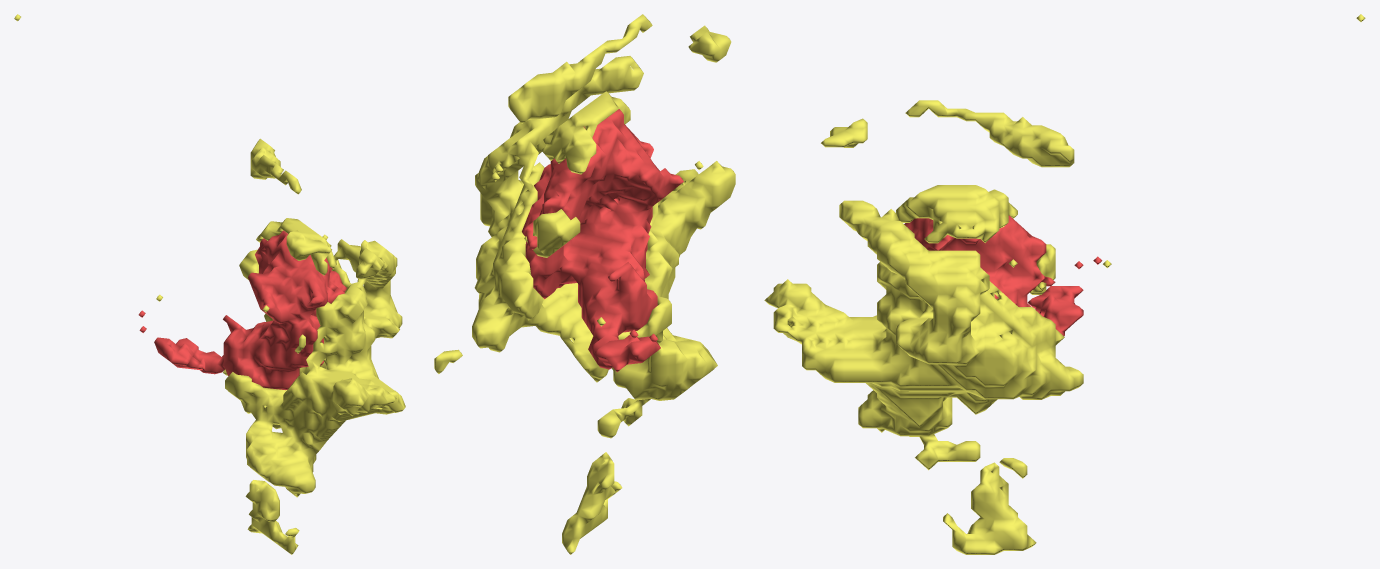
The model's file is tumor_mesh.glb.
3 views of the same model, side by side, from view 1: azimuth 30°, elevation 25°; view 2: azimuth 150°, elevation 25°; view 3: azimuth 270°, elevation 25° (orthographic). The views are drawn at different scales.
Visible parts, largest first — view 1: edema, necrotic; view 2: edema, necrotic; view 3: edema, necrotic.
Boxes of the visible parts, bbox=[...] form: edema: bbox=[14, 14, 405, 554]; necrotic: bbox=[138, 230, 346, 390]; edema: bbox=[434, 14, 735, 554]; necrotic: bbox=[522, 109, 683, 371]; edema: bbox=[764, 14, 1365, 554]; necrotic: bbox=[904, 215, 1102, 335].
Size of the model in its own units: 28 by 57 by 64.
